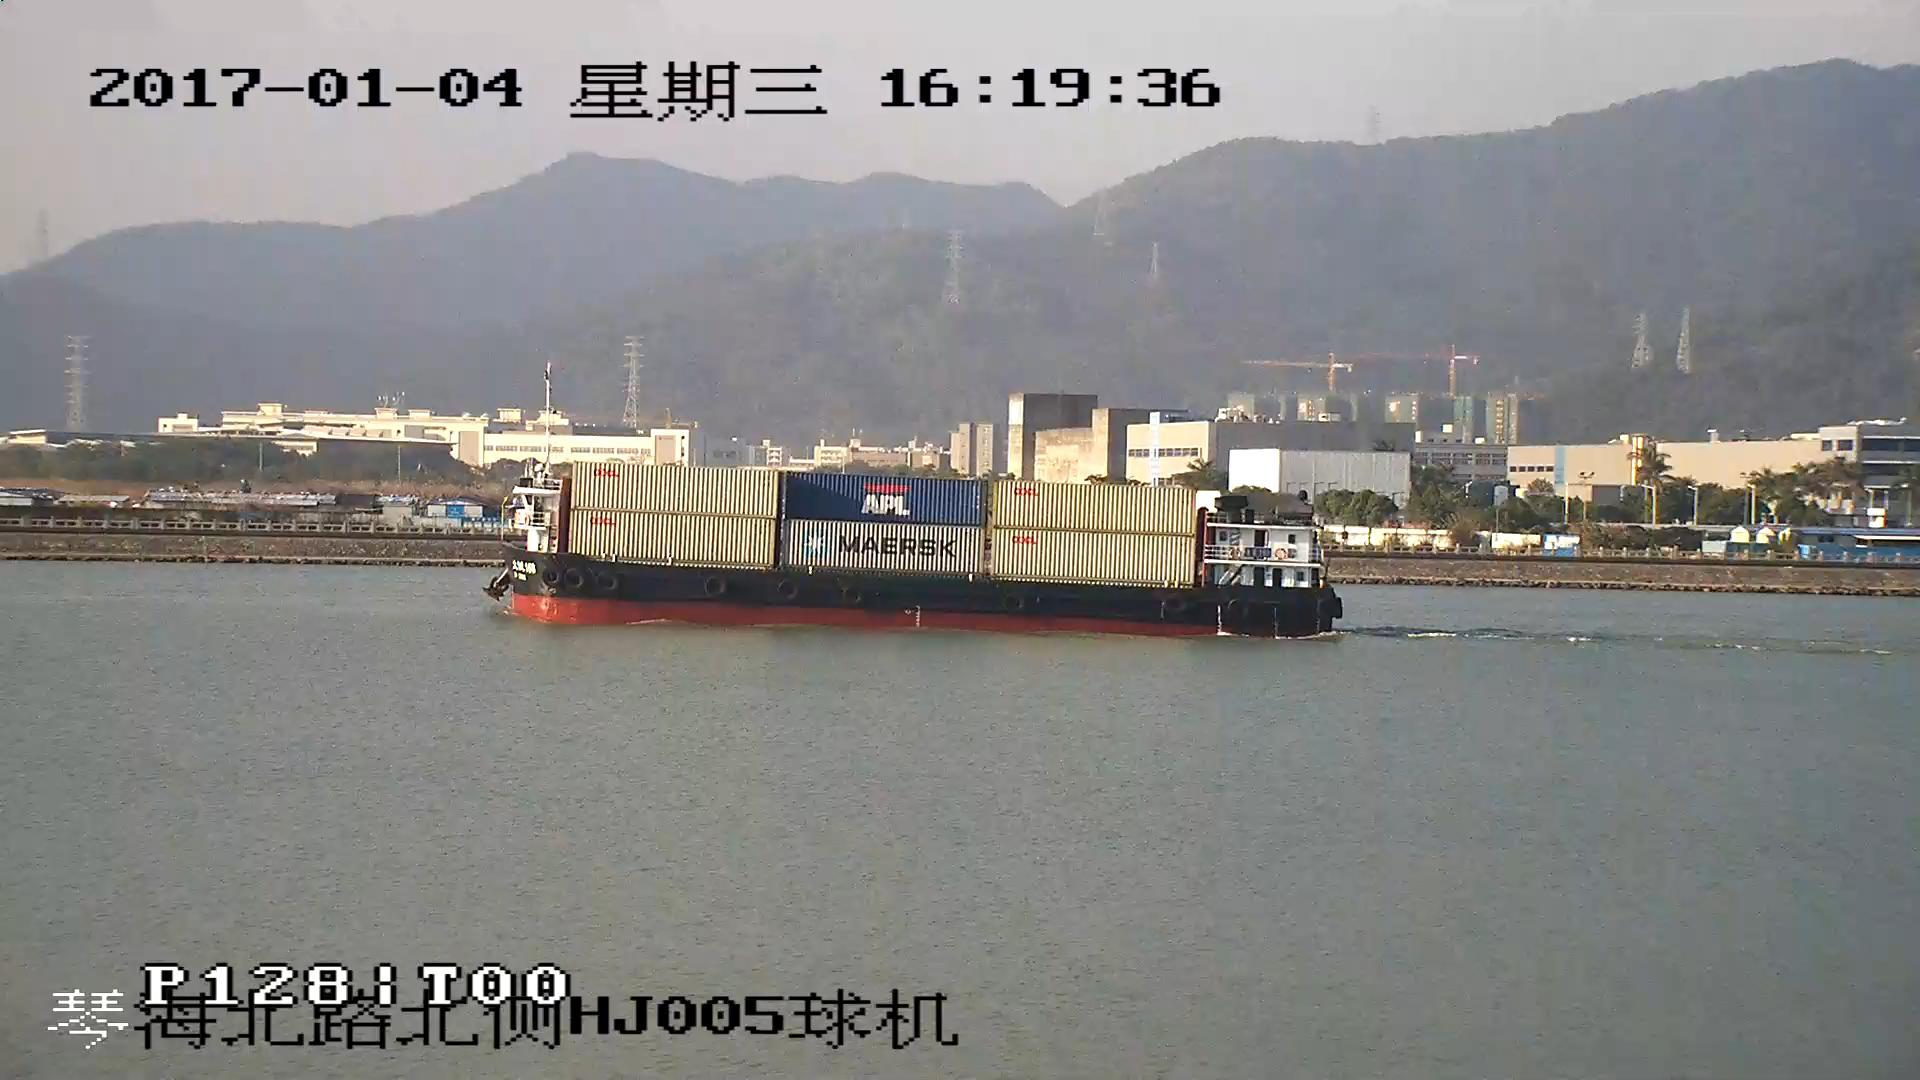Ship: (485, 459, 1345, 637)
